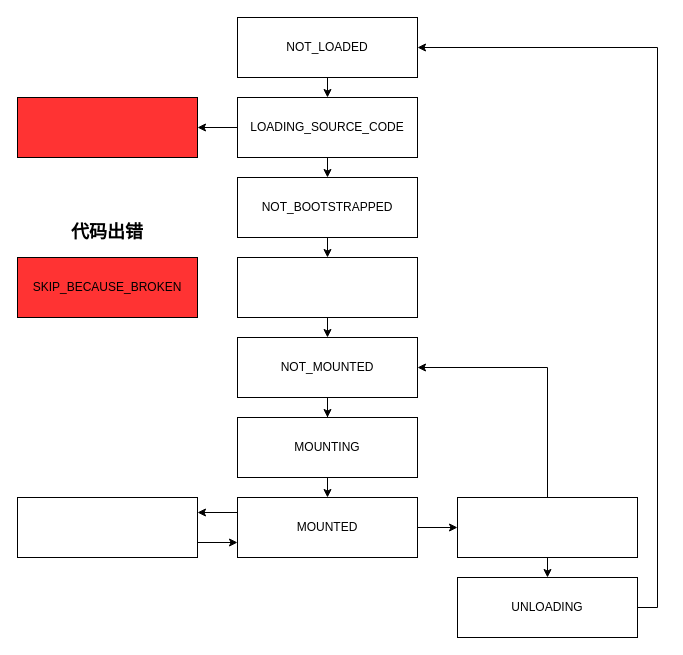
Image size: 683x655. Some labels were removed from this diagram. The centre of each missing label's shape, as x and y in pixels:
BOOTSTRAPPING: (327,287)
LOAD_ERR: (107,127)
UNMOUNTING: (547,527)
UPDATING: (107,527)
